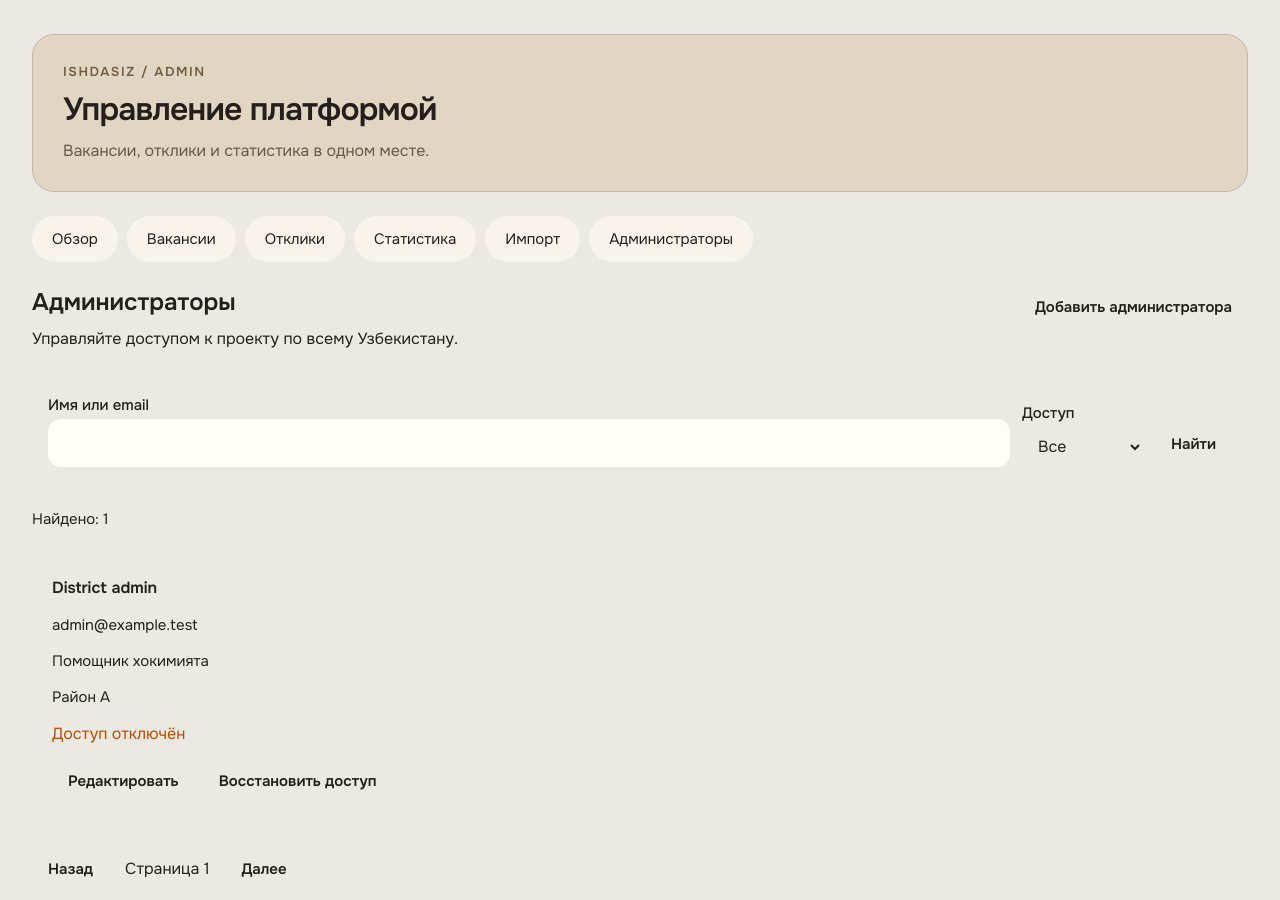
Test: restoring access uses a versioned enable action and does not delete the profile
This screenshot has width=1280, height=900.
Expected: the heading "District admin" is shown, [52,577,157,598]
Click the button "Восстановить доступ" at (298, 781), box [203,759,392,803]
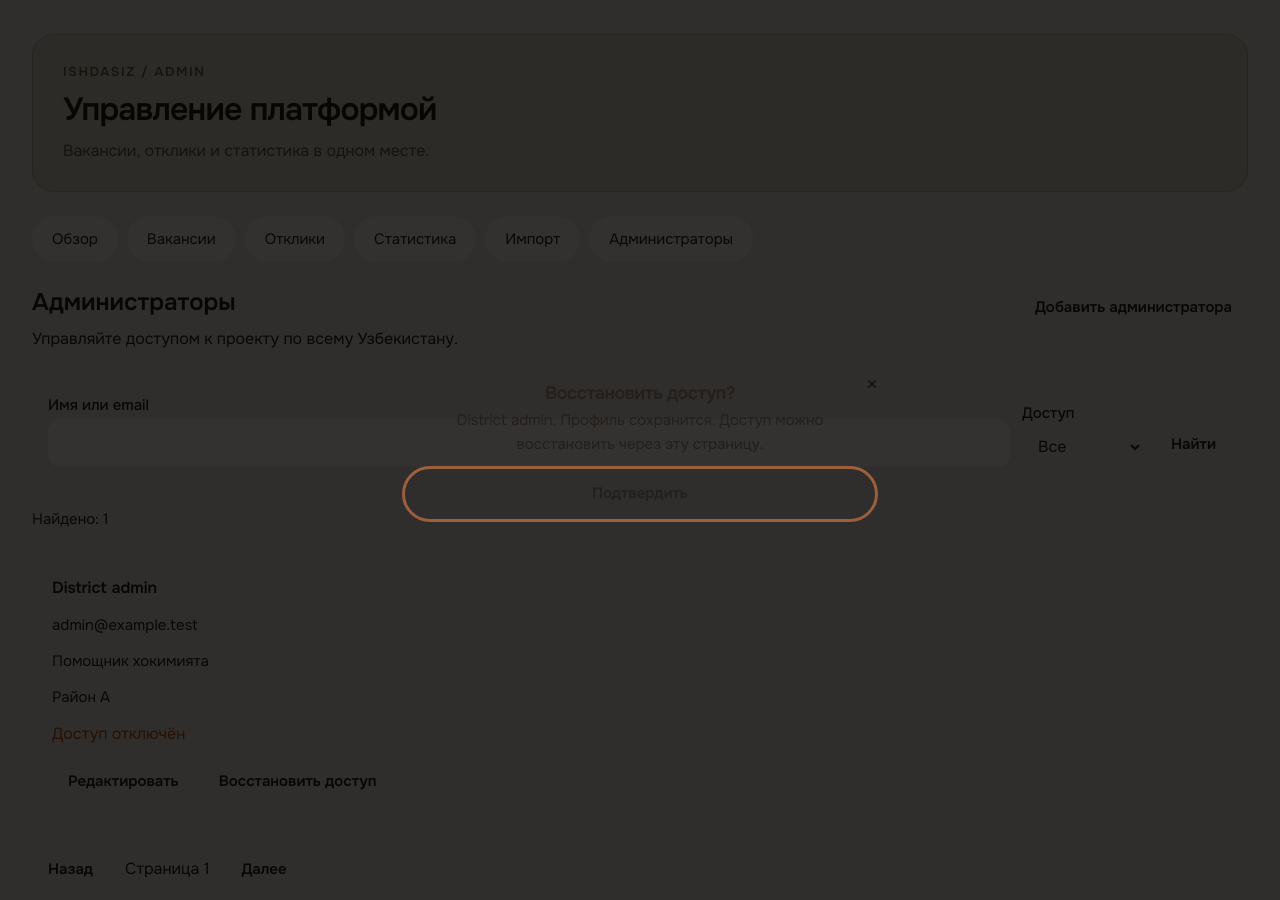
Click the button "Подтвердить" at (640, 494), box [408,472,872,516]
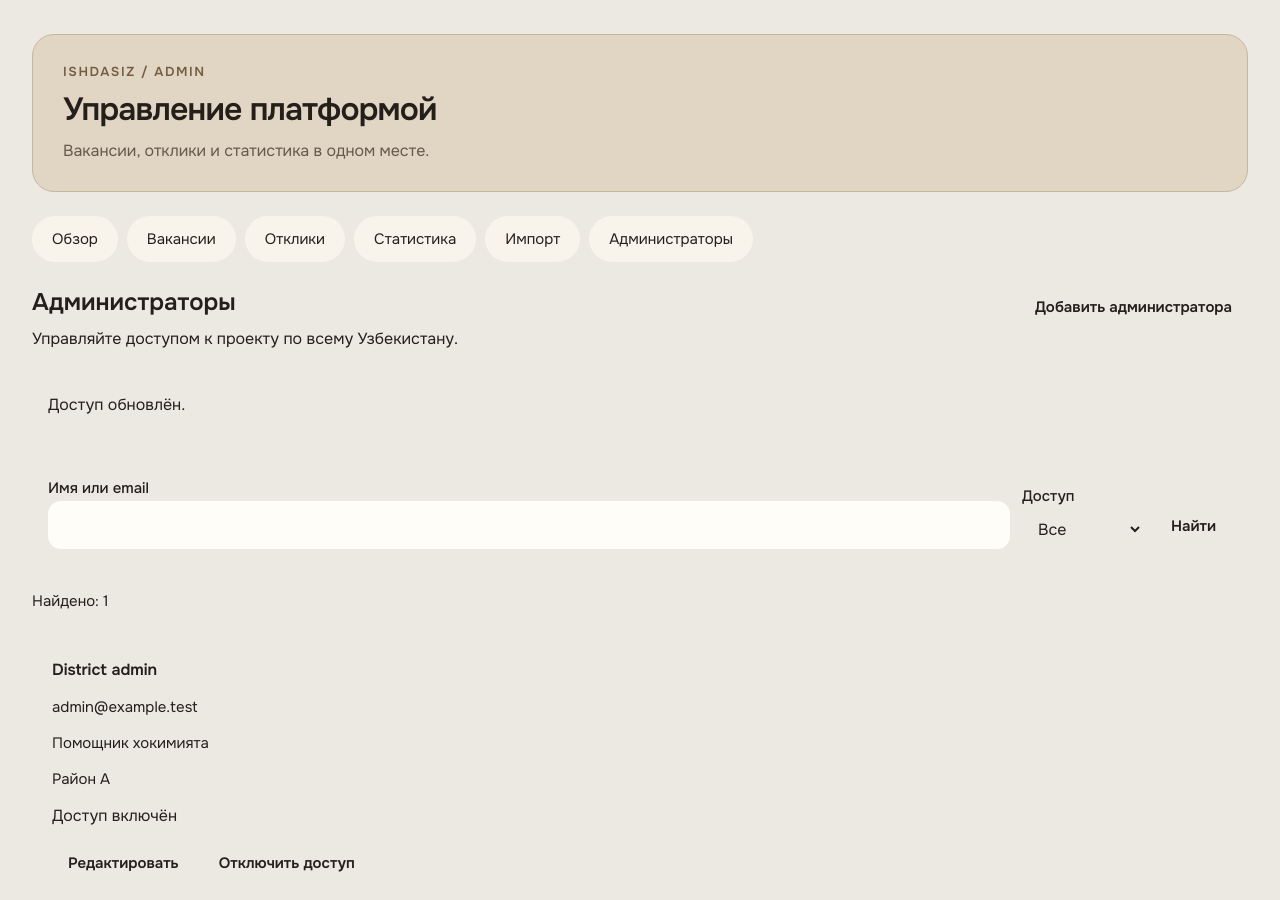
Now the text "Доступ включён" is shown, box [52,805,177,826]
